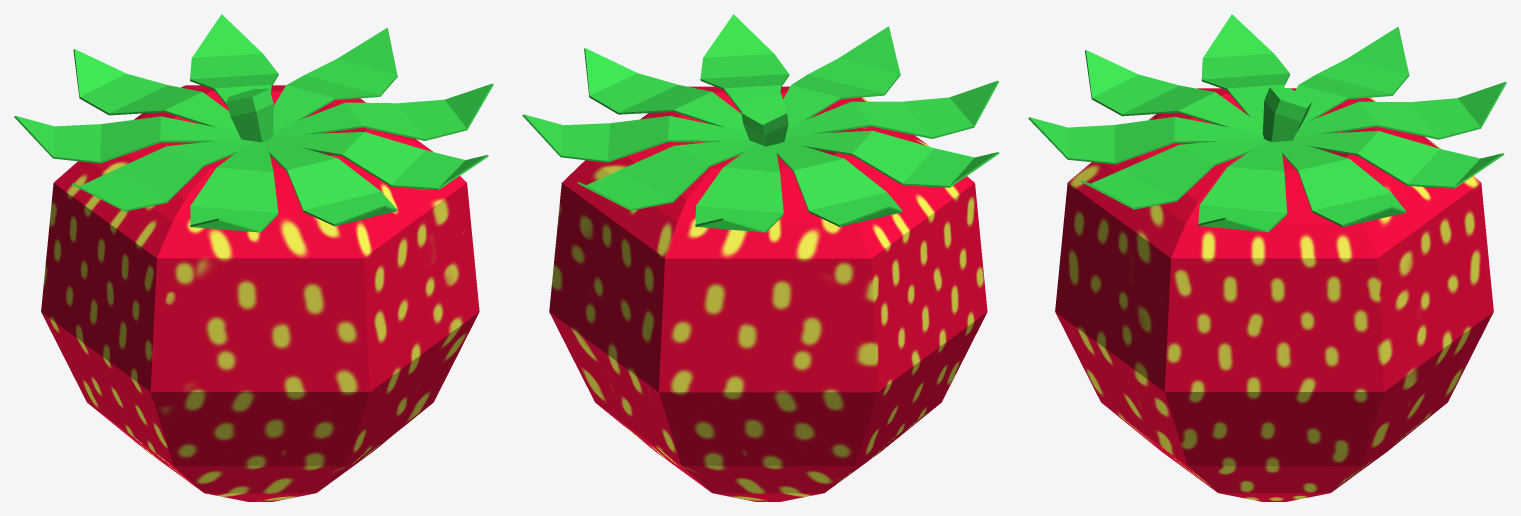
The model's file is Strawberry.fbx.
3 renders of one model, left to right at view 1: azimuth 30°, elevation 25°; view 2: azimuth 150°, elevation 25°; view 3: azimuth 270°, elevation 25°, orthographic.
Parts seen in each view (by area): view 1: Sphere, Plane, Cylinder; view 2: Sphere, Plane, Cylinder; view 3: Sphere, Plane, Cylinder.
Boxes of the visible parts, x1,y1,x2,y2 form: Sphere: (41, 85, 479, 501); Plane: (14, 14, 493, 232); Cylinder: (226, 88, 273, 142); Sphere: (549, 86, 987, 501); Plane: (522, 14, 999, 232); Cylinder: (741, 93, 788, 146); Sphere: (1055, 88, 1493, 501); Plane: (1028, 14, 1506, 232); Cylinder: (1262, 87, 1312, 142).
Bounding box in the file's own units: 241 × 220 × 238.
